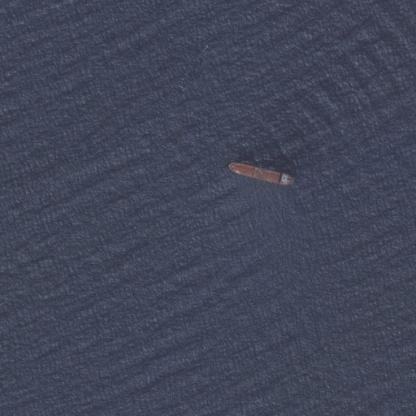ship: (225, 0, 297, 22)
